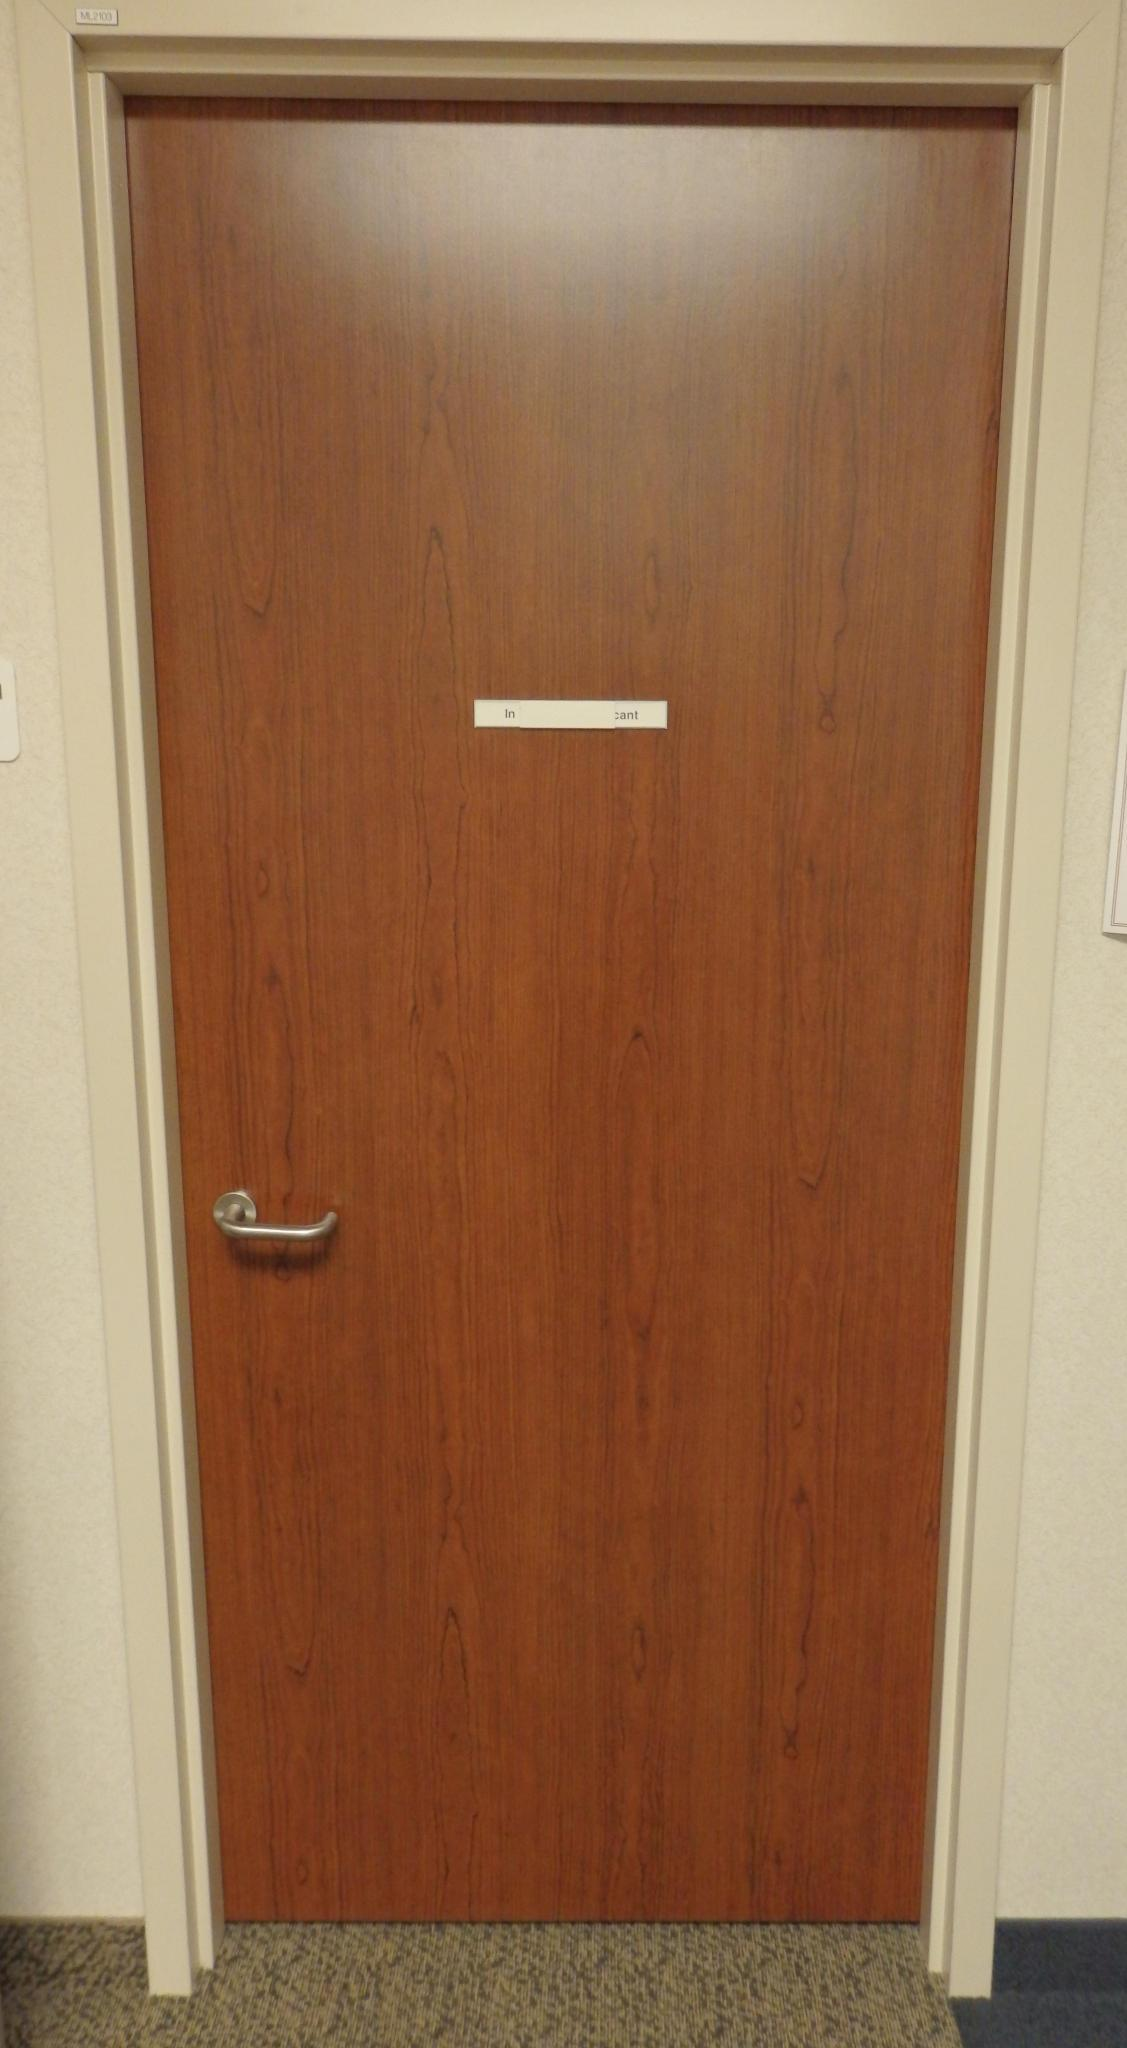door: (160, 119, 926, 1938)
handle: (217, 1179, 340, 1277)
